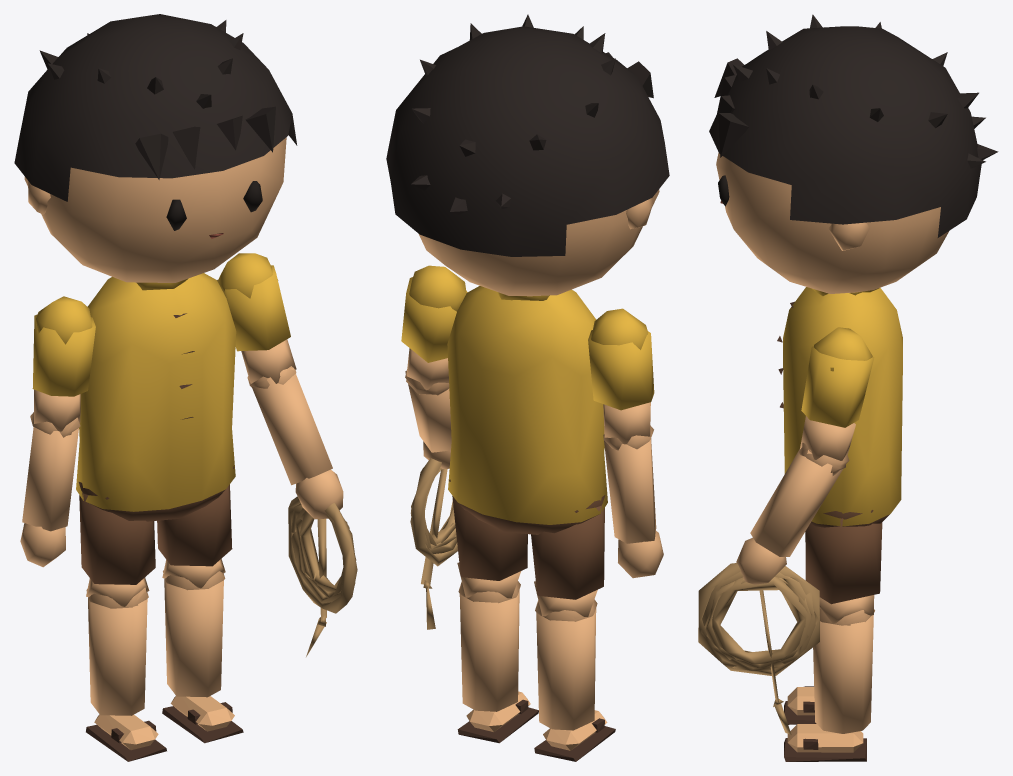
Rendered from era1_boy_rope.glb.
3 renders of one model, left to right at view 1: azimuth 30°, elevation 25°; view 2: azimuth 150°, elevation 25°; view 3: azimuth 270°, elevation 25°, orthographic.
Parts seen in each view (by area): view 1: head, body, shin_R, shin_L, arm_R, arm_L, leg_R, forearm_L, forearm_R, leg_L, prop_rope_coil; view 2: head, body, shin_R, shin_L, arm_R, leg_R, arm_L, forearm_R, leg_L, prop_rope_coil, forearm_L; view 3: head, body, shin_L, prop_rope_coil, arm_L, leg_L, forearm_L, shin_R.
Boxes of the visible parts, x1,y1,x2,y2 form: head: [14, 14, 297, 282]; body: [76, 273, 236, 521]; shin_R: [86, 587, 166, 761]; shin_L: [162, 570, 243, 743]; arm_R: [30, 296, 95, 437]; arm_L: [217, 253, 296, 388]; leg_R: [78, 482, 155, 608]; forearm_L: [250, 367, 343, 519]; forearm_R: [20, 417, 78, 567]; leg_L: [157, 466, 234, 590]; prop_rope_coil: [288, 496, 357, 656]; head: [386, 14, 669, 296]; body: [447, 286, 607, 534]; shin_R: [534, 604, 615, 761]; shin_L: [457, 582, 538, 743]; arm_R: [588, 308, 654, 450]; leg_R: [531, 495, 605, 621]; arm_L: [401, 265, 467, 395]; forearm_R: [603, 434, 663, 578]; leg_L: [449, 479, 527, 603]; prop_rope_coil: [410, 458, 457, 629]; forearm_L: [405, 371, 451, 469]; head: [709, 14, 998, 293]; body: [777, 287, 902, 527]; shin_L: [784, 610, 873, 761]; prop_rope_coil: [698, 563, 819, 734]; arm_L: [798, 327, 874, 475]; leg_L: [805, 510, 882, 625]; forearm_L: [736, 443, 845, 584]; shin_R: [784, 686, 815, 724].
Bounding box in the file's own units: 0.539 × 1.31 × 0.5124.
